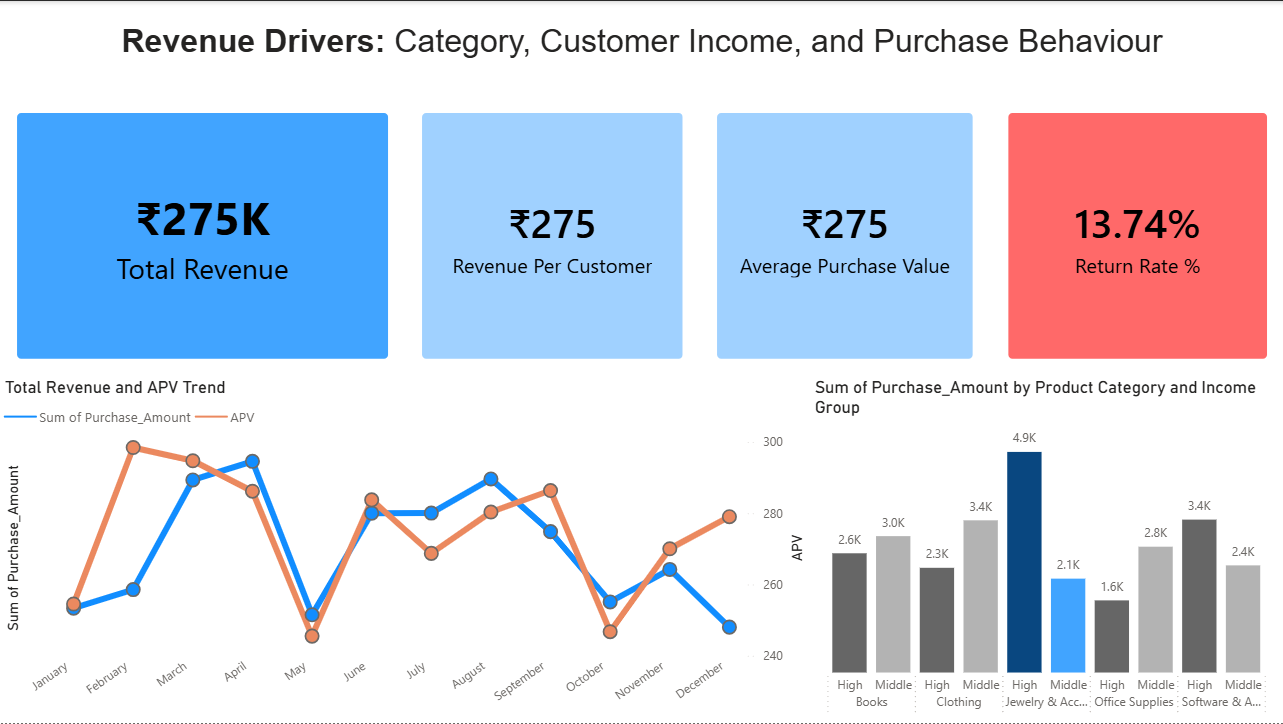

The page's visual inventory and layout, read from the dashboard file:
{"tool":"powerbi","page":{"name":"Revenue Drivers","canvas":[1280,720],"ordinal":0},"visuals":[{"type":"cardVisual","fields":{"Data":["Sum(ecommerce_cleaned.Purchase_Amount)"]},"box":[0,94.9,404,279.9],"z":0},{"type":"cardVisual","fields":{"Data":["ecommerce_cleaned.RPC"]},"box":[404,94.9,294.5,279.9],"z":1000},{"type":"cardVisual","fields":{"Data":["ecommerce_cleaned.Weighted_ReturnRate"]},"box":[988.2,94.9,292.1,279.9],"z":2000},{"type":"cardVisual","fields":{"Data":["ecommerce_cleaned.APV"]},"box":[698.5,94.9,289.6,279.9],"z":3000},{"type":"lineChart","title":"Total Revenue and APV Trend","fields":{"Category":["ecommerce_cleaned.Time_of_Purchase.Variation.Date Hierarchy.Month"],"Y":["Sum(ecommerce_cleaned.Purchase_Amount)"],"Y2":["ecommerce_cleaned.APV"]},"box":[0,374.8,808.1,345.6],"z":4000},{"type":"clusteredColumnChart","fields":{"Category":["ecommerce_cleaned.Purchase_Category","ecommerce_cleaned.Income_Level"],"Y":["Sum(ecommerce_cleaned.Purchase_Amount)"]},"box":[808.1,374.8,472.2,345.6],"z":5000},{"type":"textbox","box":[0,0,1280.2,94.9],"z":6000},{"type":"textbox","box":[0,0,1280.3,95.2],"z":7000}]}

Visuals, with their boxes in screenshot pixels (x1, y1, x2, y2), scaled from the page's 1280x720 canvas onto the 1283x724 screenshot:
cardVisual - Sum(ecommerce_cleaned.Purchase_Amount): <box>0,95,405,377</box>
cardVisual - ecommerce_cleaned.RPC: <box>405,95,700,377</box>
cardVisual - ecommerce_cleaned.Weighted_ReturnRate: <box>991,95,1282,377</box>
cardVisual - ecommerce_cleaned.APV: <box>700,95,990,377</box>
"Total Revenue and APV Trend" lineChart: <box>0,377,810,723</box>
clusteredColumnChart - ecommerce_cleaned.Purchase_Category x ecommerce_cleaned.Income_Level: <box>810,377,1282,723</box>
textbox: <box>0,0,1282,95</box>
textbox: <box>0,0,1282,96</box>
